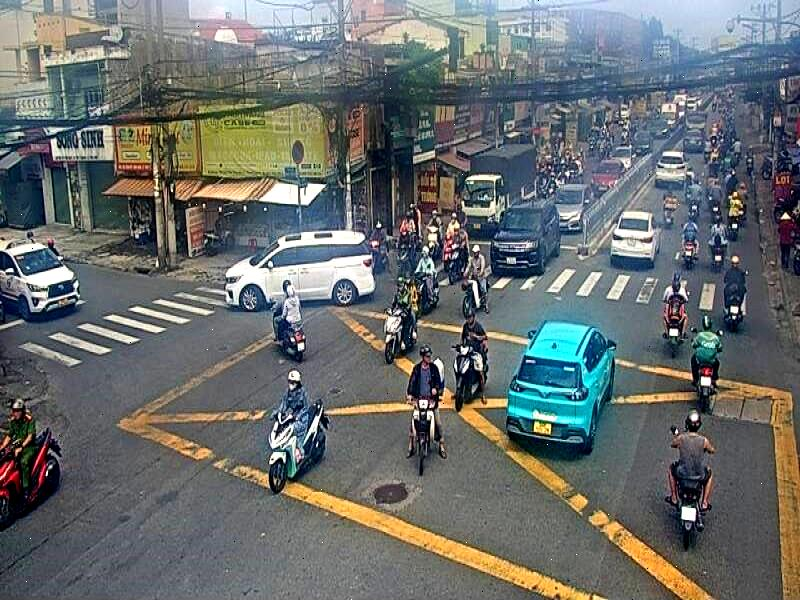car: (506, 320, 615, 448), (223, 228, 378, 304), (0, 238, 84, 320), (486, 201, 562, 279), (610, 204, 655, 262), (551, 182, 598, 234)
motorcycle: (0, 434, 63, 531), (269, 403, 327, 496), (406, 387, 439, 481), (671, 483, 705, 550), (450, 340, 477, 415), (379, 301, 410, 362), (695, 358, 719, 406), (281, 322, 306, 363)
truck: (459, 144, 538, 235)
